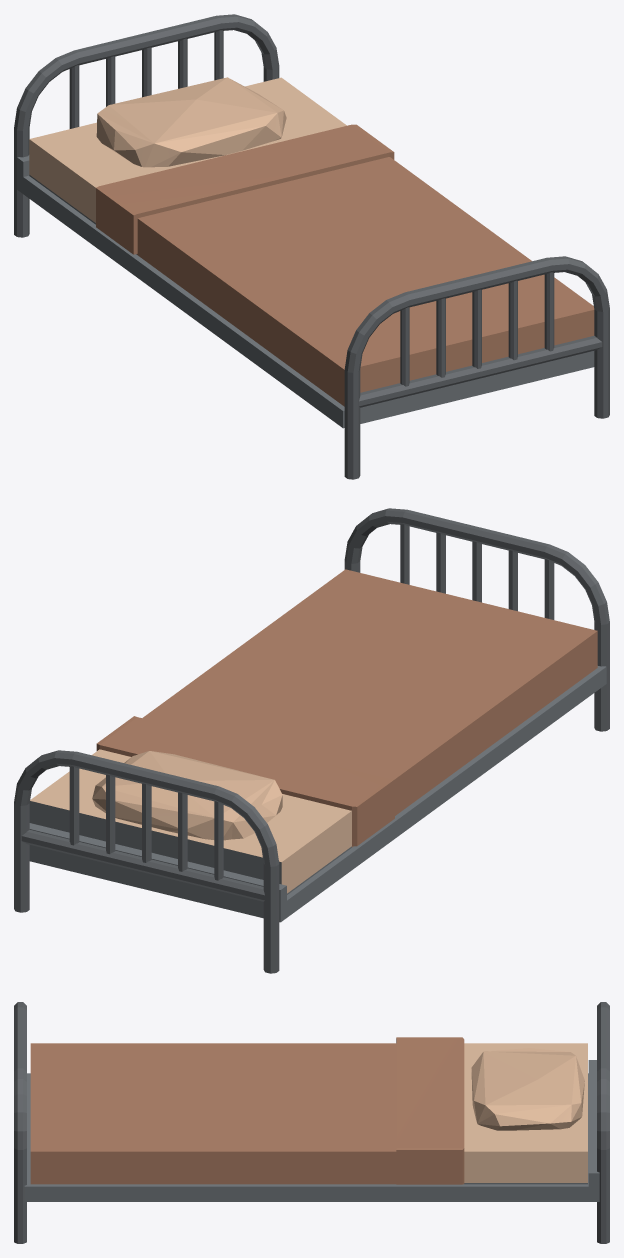
File: Bed_02.fbx
The picture shows the model from 3 angles, top to bottom: view 1: azimuth 30°, elevation 25°; view 2: azimuth 150°, elevation 25°; view 3: azimuth 270°, elevation 25°; orthographic projection. The views are drawn at different scales.
Parts seen in each view (by area): view 1: Bed_02; view 2: Bed_02; view 3: Bed_02.
Part boxes in pixels (x1,y1,x2,y2): Bed_02: [14, 14, 609, 479]; Bed_02: [14, 508, 609, 973]; Bed_02: [14, 1002, 609, 1243].
Size of the model in its own units: 109 by 67.29 by 243.
